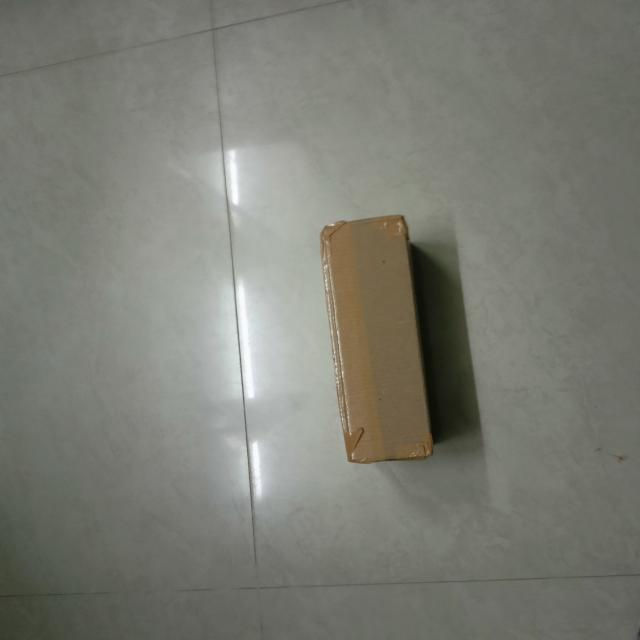box: (325, 217, 435, 461)
